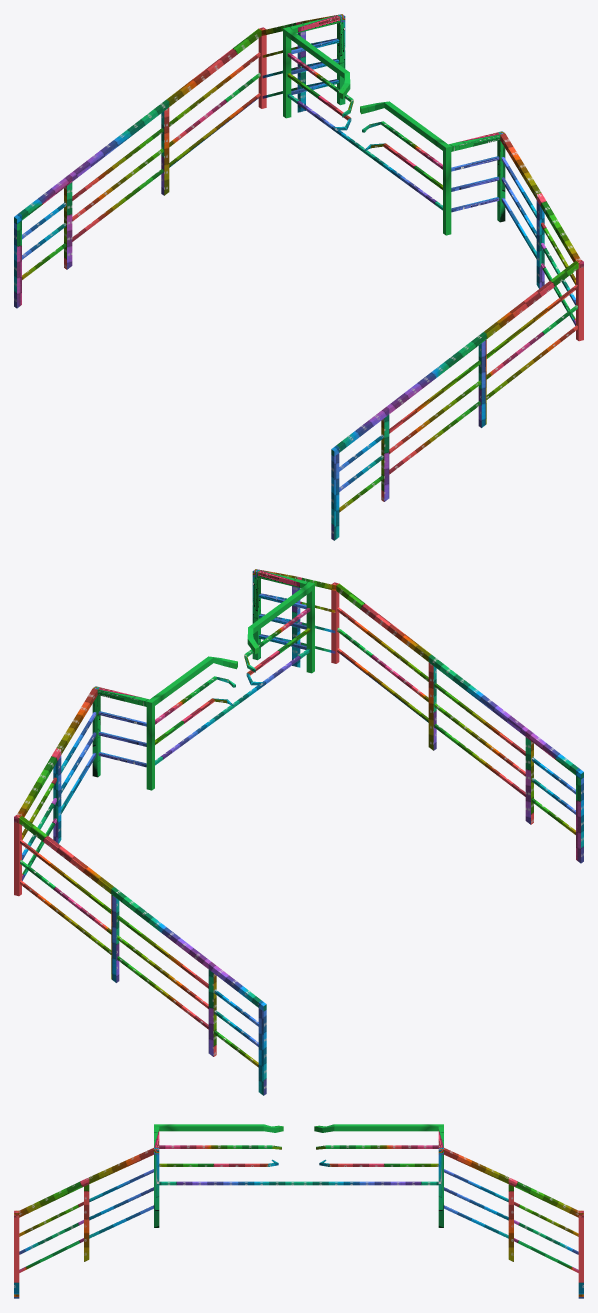
The model's file is Star.fbx.
The picture shows the model from 3 angles, top to bottom: view 1: azimuth 30°, elevation 25°; view 2: azimuth 150°, elevation 25°; view 3: azimuth 270°, elevation 25°; orthographic projection. The views are drawn at different scales.
Visible parts, largest first — view 1: polySurface8524; view 2: polySurface8524; view 3: polySurface8524.
Part boxes in pixels (left/top/right/bottom): polySurface8524: left=14, top=14, right=583, bottom=540; polySurface8524: left=14, top=569, right=583, bottom=1095; polySurface8524: left=14, top=1124, right=583, bottom=1298.
Bounding box in the file's own units: 369 × 408 × 820.
